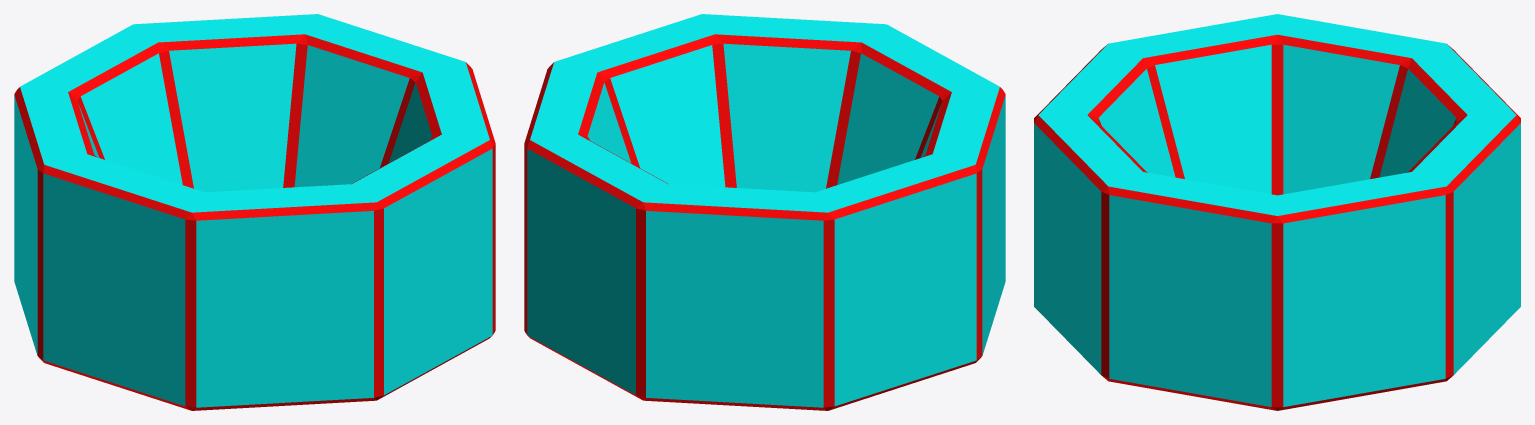
Rendered from L13_Sphere_Hole.fbx.
The picture shows the model from 3 angles, left to right: view 1: azimuth 30°, elevation 25°; view 2: azimuth 150°, elevation 25°; view 3: azimuth 270°, elevation 25°; orthographic projection.
Visible parts, largest first — view 1: L13_Sphere_Hole; view 2: L13_Sphere_Hole; view 3: L13_Sphere_Hole.
Part boxes in pixels (left/top/right/bottom): L13_Sphere_Hole: left=14, top=14, right=495, bottom=410; L13_Sphere_Hole: left=524, top=14, right=1005, bottom=410; L13_Sphere_Hole: left=1034, top=14, right=1520, bottom=410.
Bounding box in the file's own units: 396 × 175 × 396.
